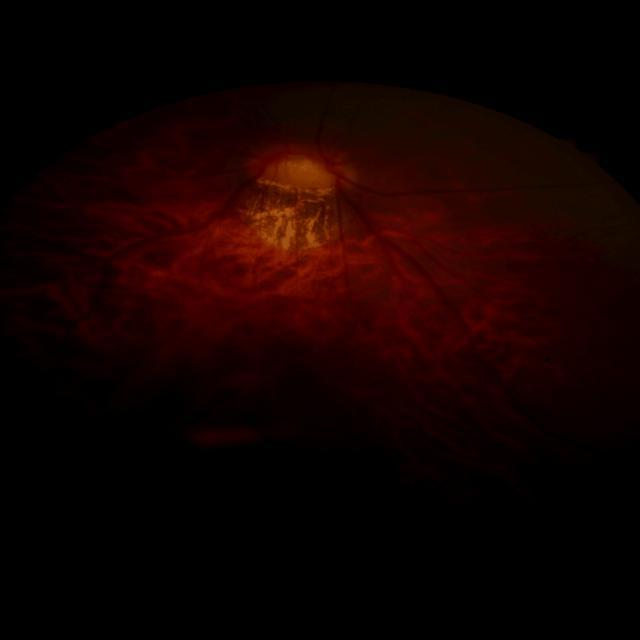cup: (262, 149, 340, 189)
disk: (250, 142, 354, 196)
